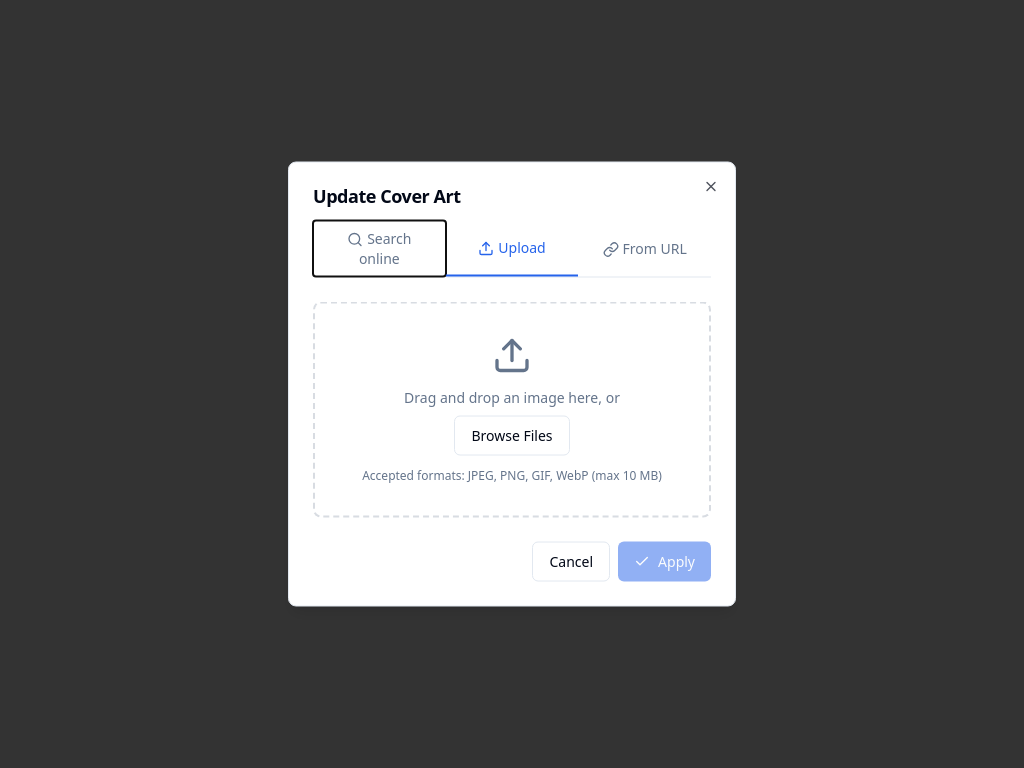
Test case: CoverArtUpload › Mode tabs › should switch to URL mode when From URL tab is clicked
Click the button "From URL". click: point(645, 248)
box: [578,220,711,276]
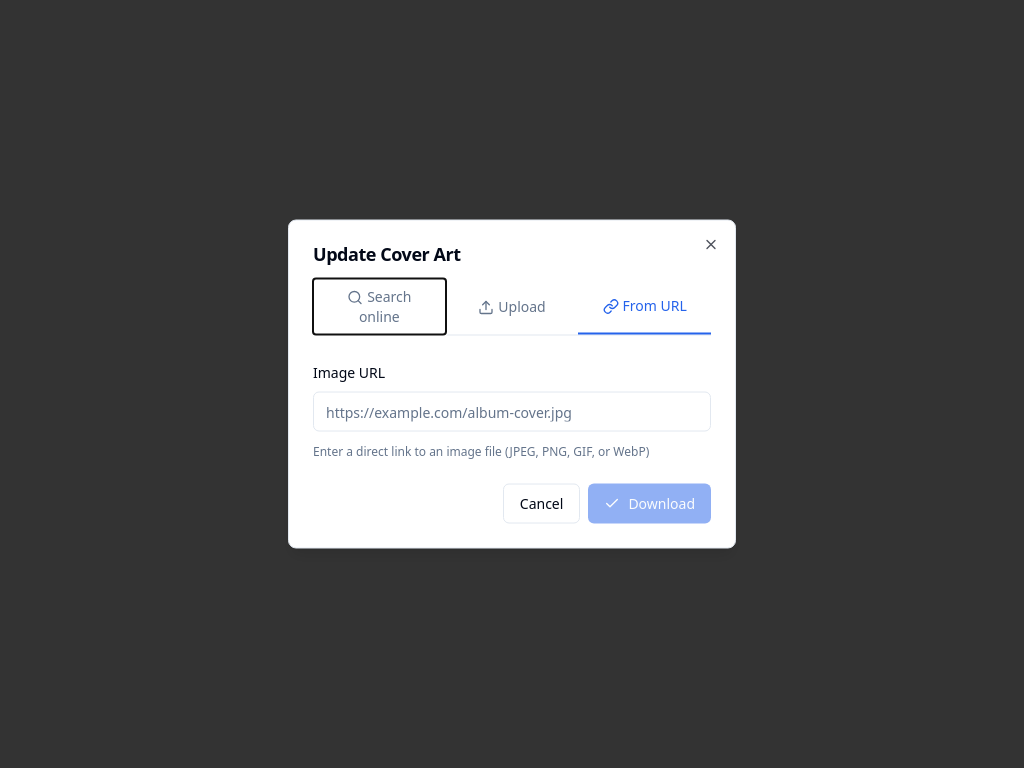
Now the field labelled "Image URL" is shown, box [313,392,711,432]
